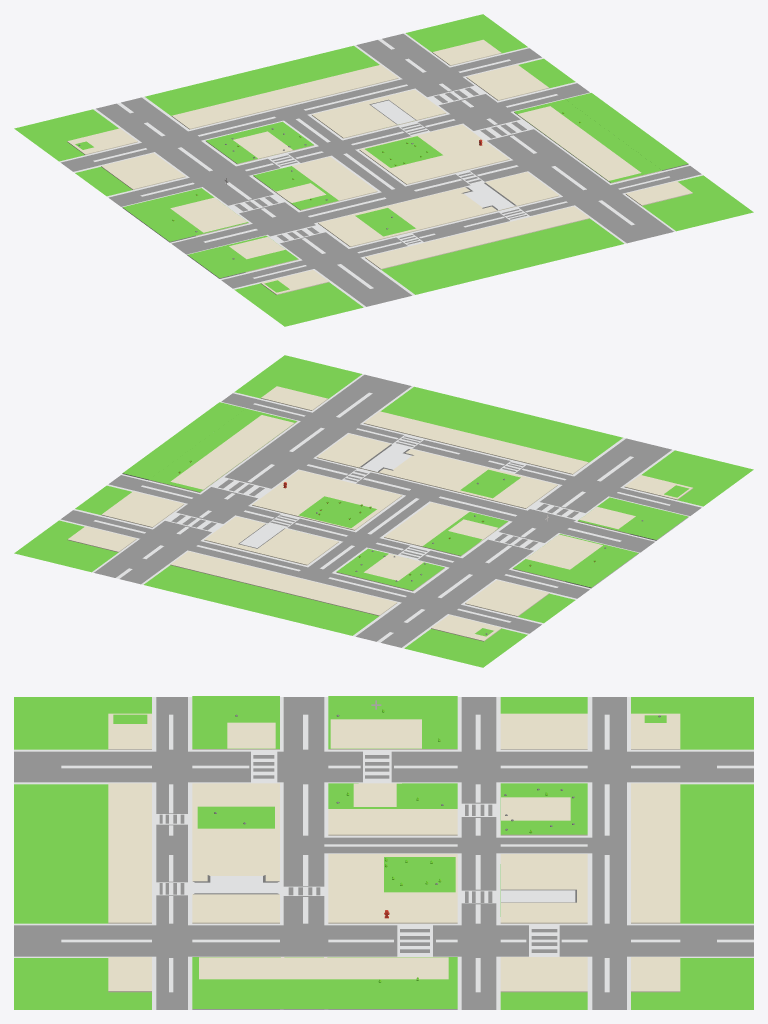
File: floor.glb
3 views of the same model, one above another, from view 1: azimuth 30°, elevation 25°; view 2: azimuth 150°, elevation 25°; view 3: azimuth 270°, elevation 25° (orthographic). The views are drawn at different scales.
Parts seen in each view (by area): view 1: Plane.039; view 2: Plane.039; view 3: Plane.039.
Part boxes in pixels (box(x1,y1,x2,y2)): Plane.039: box(14, 14, 753, 326); Plane.039: box(14, 355, 753, 667); Plane.039: box(14, 696, 753, 1009).
Bounding box in the file's own units: 15.96 × 1.1 × 15.96.
